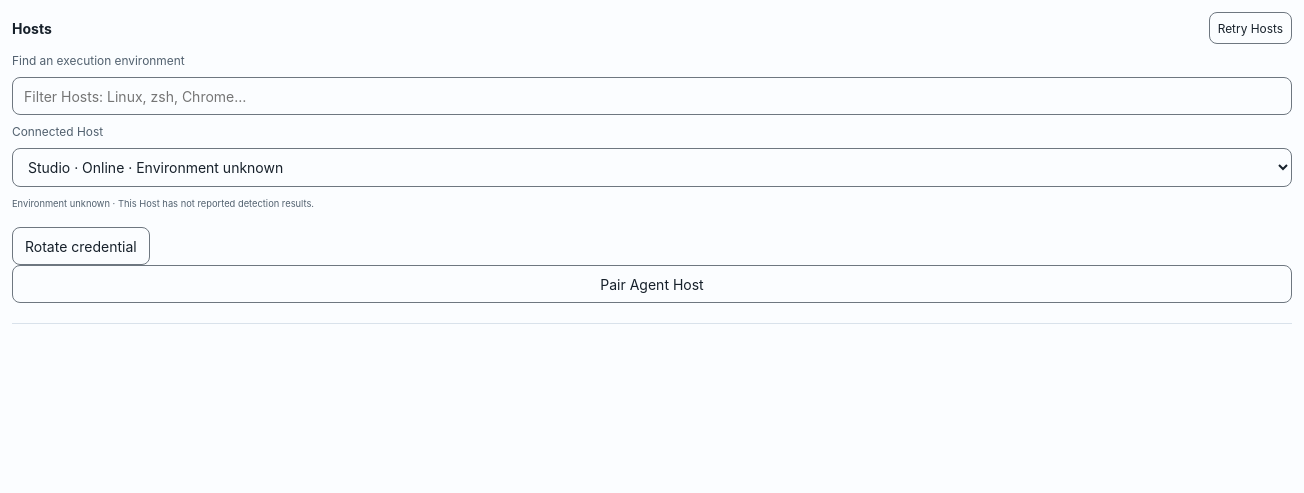
Test case: requires fresh authentication for rotation without trusting a server redirect or replaying the action
Click the button "Rotate credential".
click(81, 246)  # box [12,227,150,265]
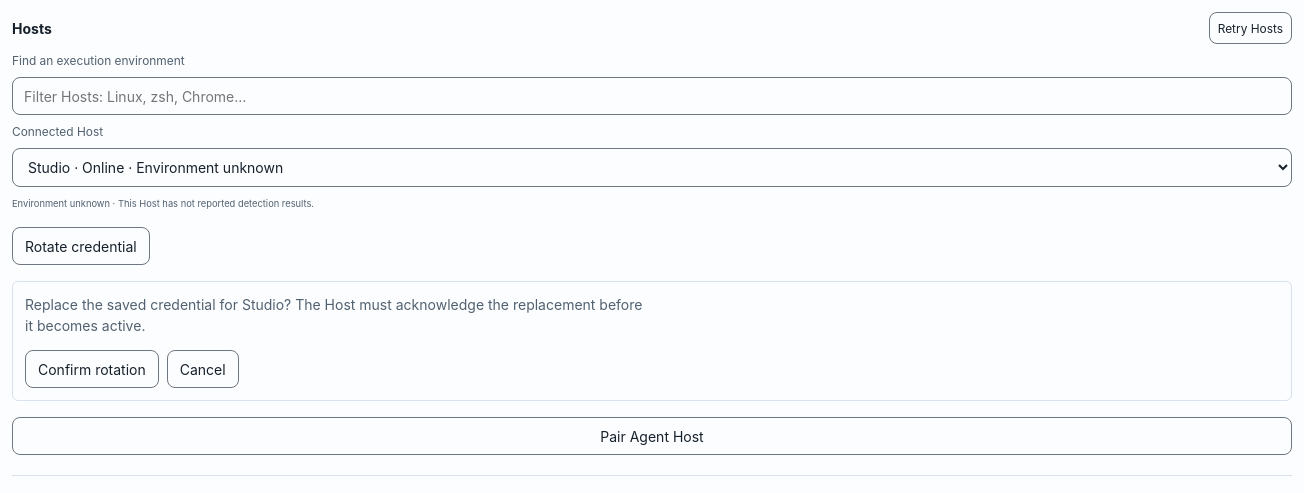
Click the button "Confirm rotation".
click(92, 369)  # box [25,350,159,388]
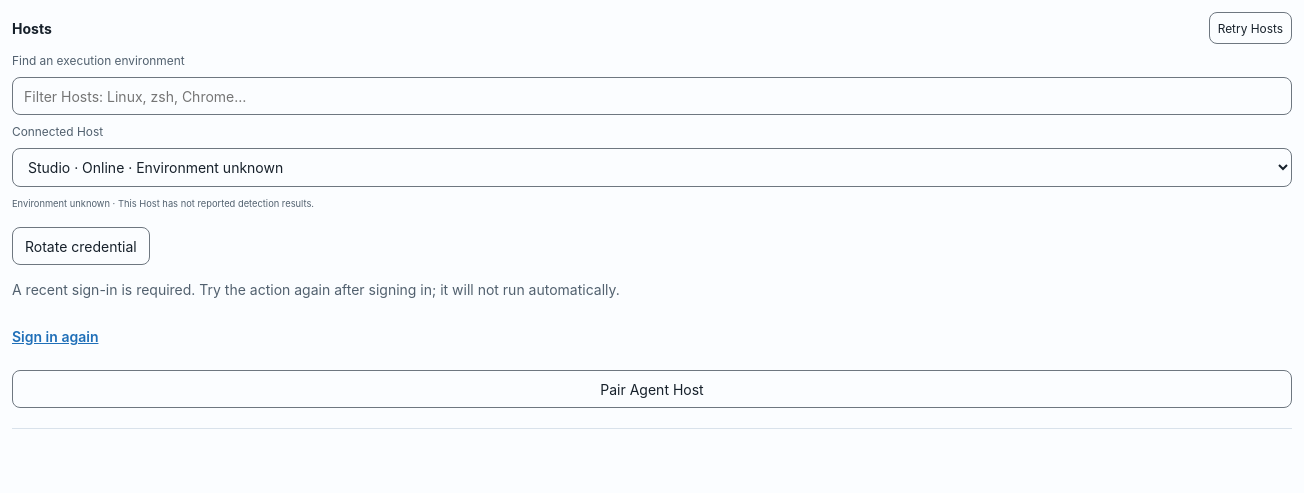
Result: the text "Try the action again after signing in" is shown at [12,281,620,298]
